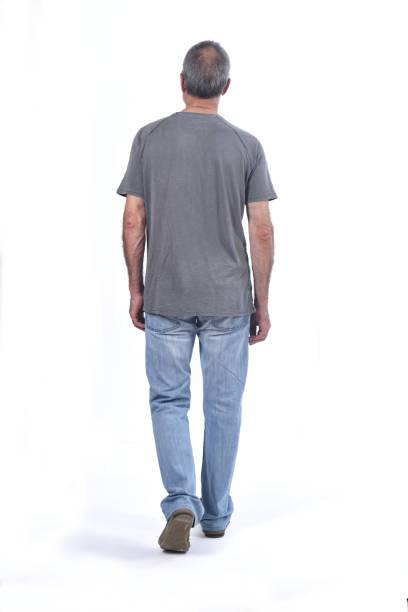Human: (117, 36, 289, 558)
